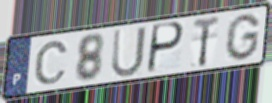8: (74, 31, 106, 84)
C: (33, 39, 70, 86)
G: (223, 12, 262, 63)
P: (145, 21, 186, 76)
T: (191, 14, 221, 70)
U: (110, 24, 148, 80)
